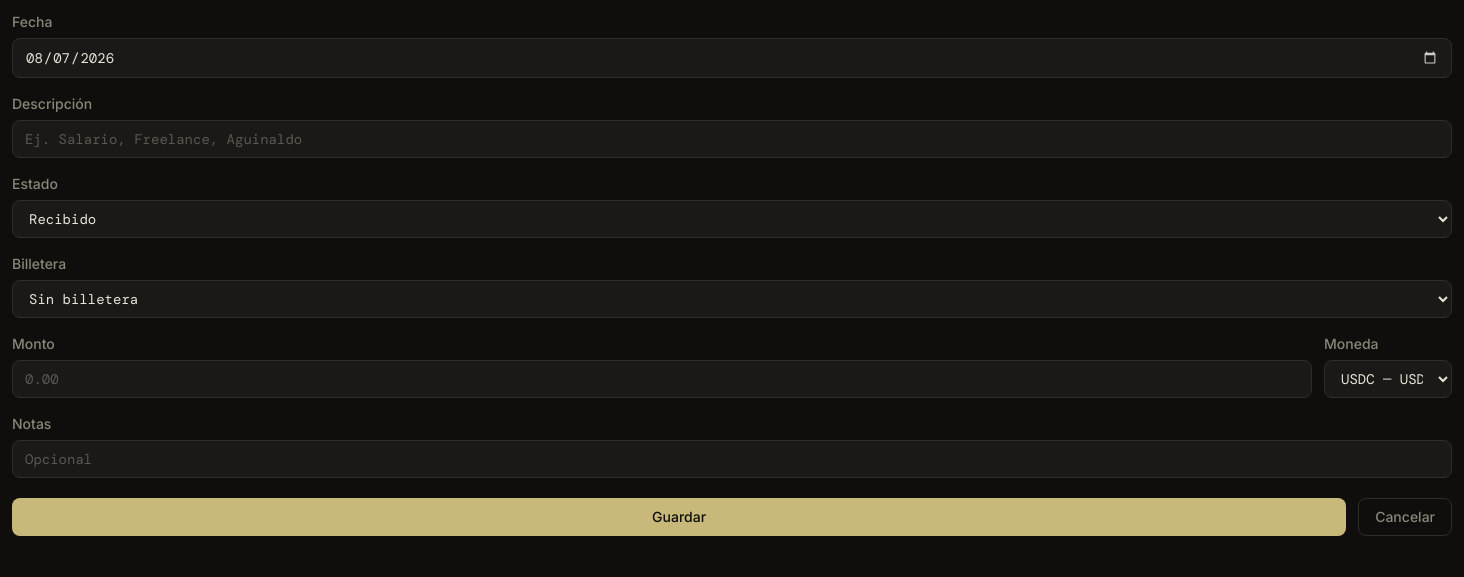
IncomeForm › requires a description
Click the button "Guardar": x=679, y=517 left=12, top=498, right=1346, bottom=536
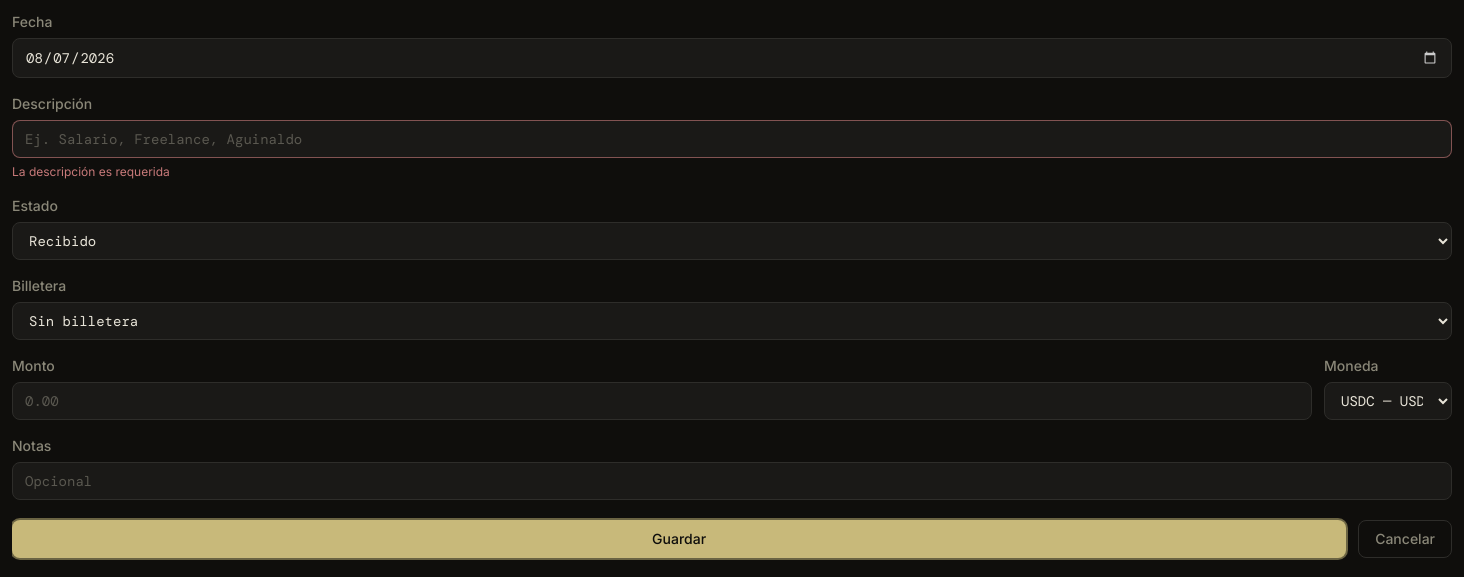
Result: the text "La descripción es requerida" is shown at left=12, top=164, right=170, bottom=179
